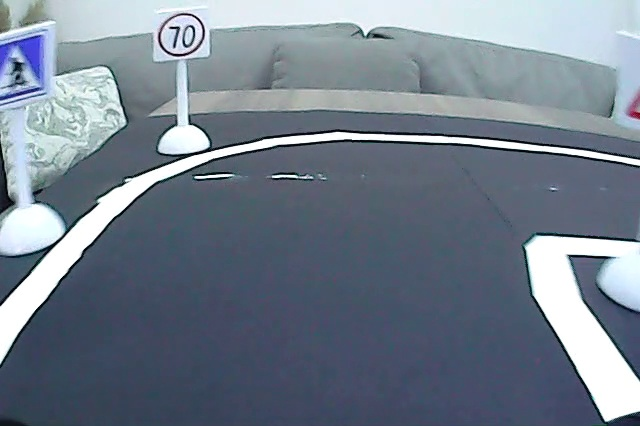pedestrian crossing: (1, 32, 50, 106)
speed limit 70: (156, 9, 207, 58)
